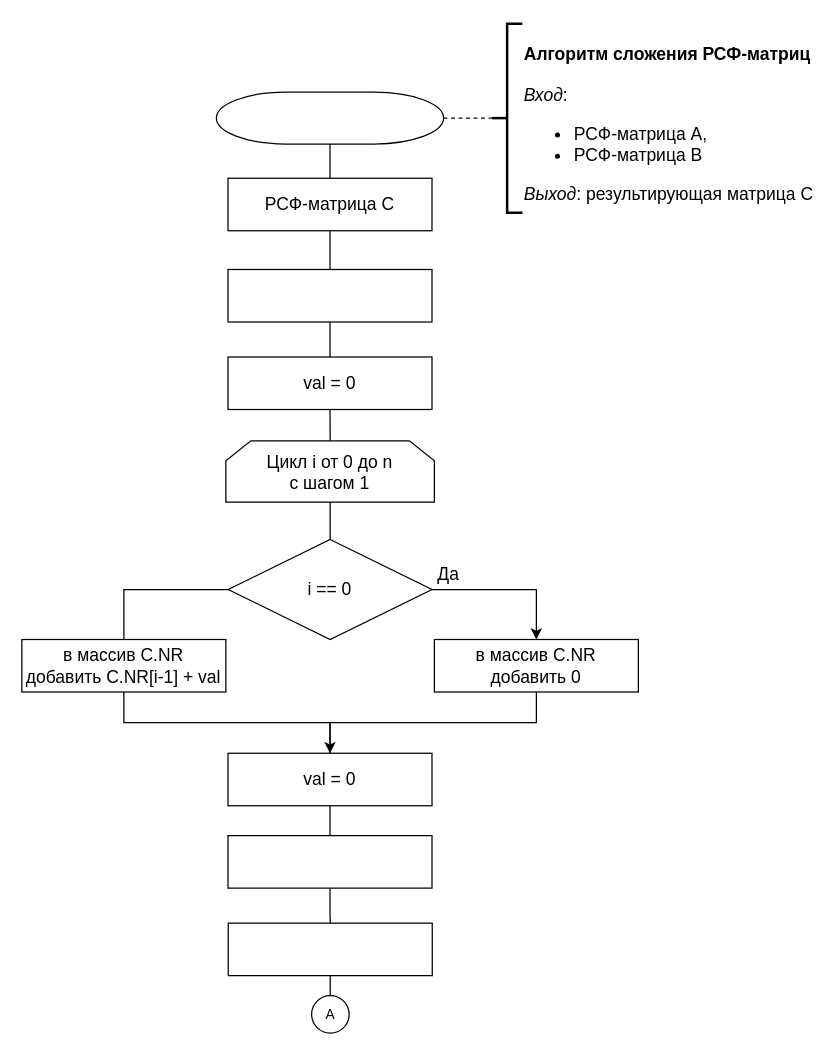
Some shapes in this 839 by 1055 pixel diagram are drawn without their labels. Here are the shapes that lost their labels. From the top down, the centre of each, then its label:
At [329,117]: "Начало".
At [329,295]: "n = количество строк матрицы А".
At [329,861]: "ka = A.NR[i]".
At [329,949]: "kb = B.NR[i]".
